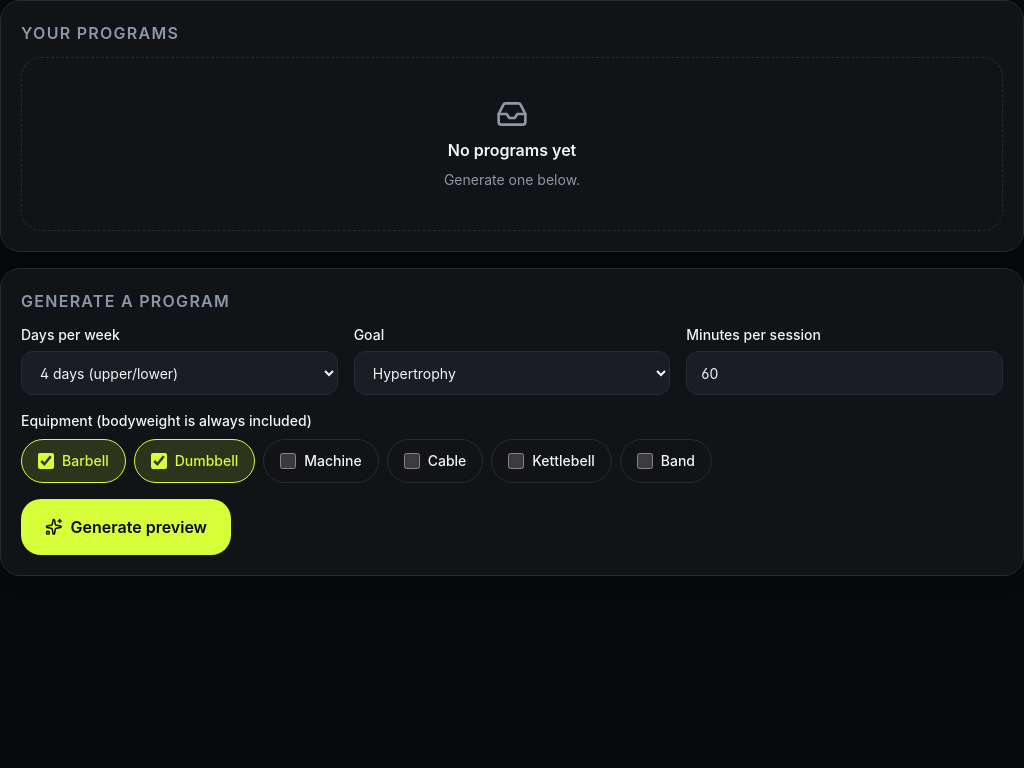
Test: program builder › checks the minutes per session before asking the API
Replace the text in the field labelled "Minutes per session" with "5" at (845, 373), box [686,351,1003,395]
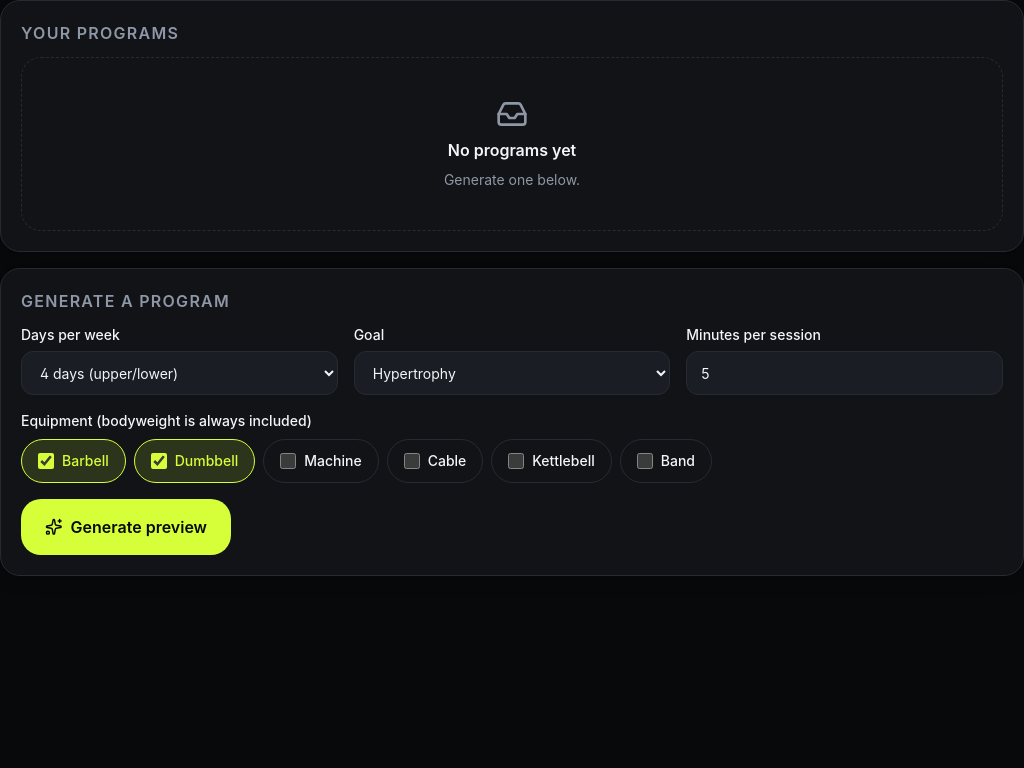
Click the button "Generate preview".
click(126, 527)  # box [21,499,231,555]
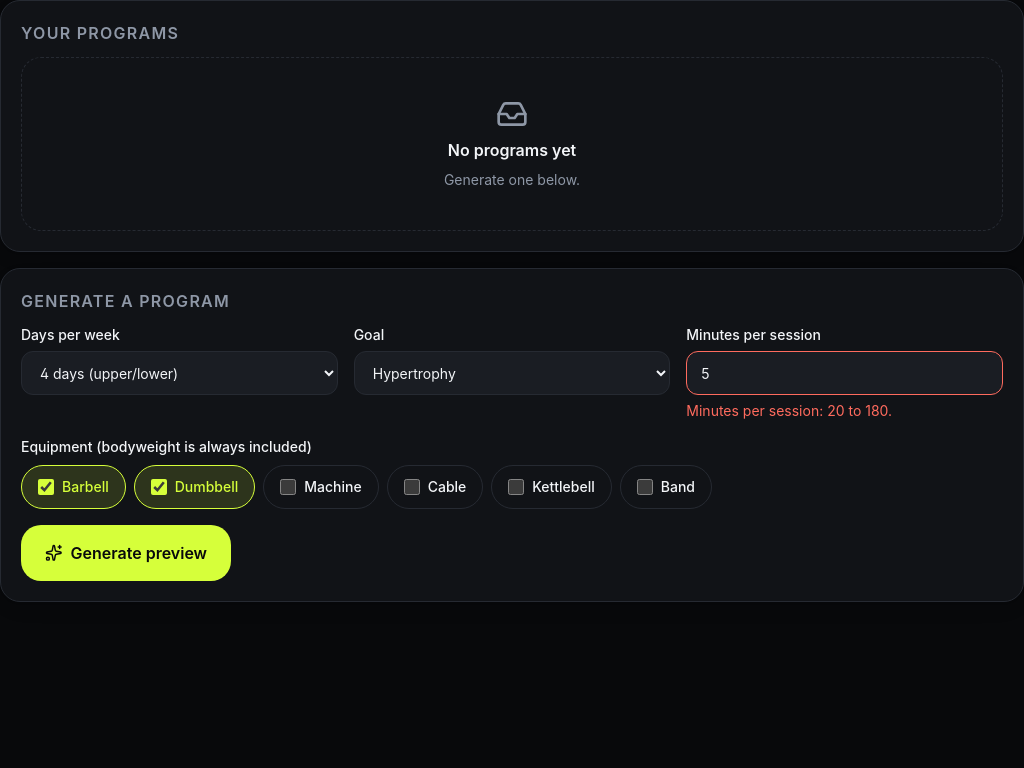
Expected: the text "Minutes per session: 20 to 180." is shown, [686,402,892,419]
